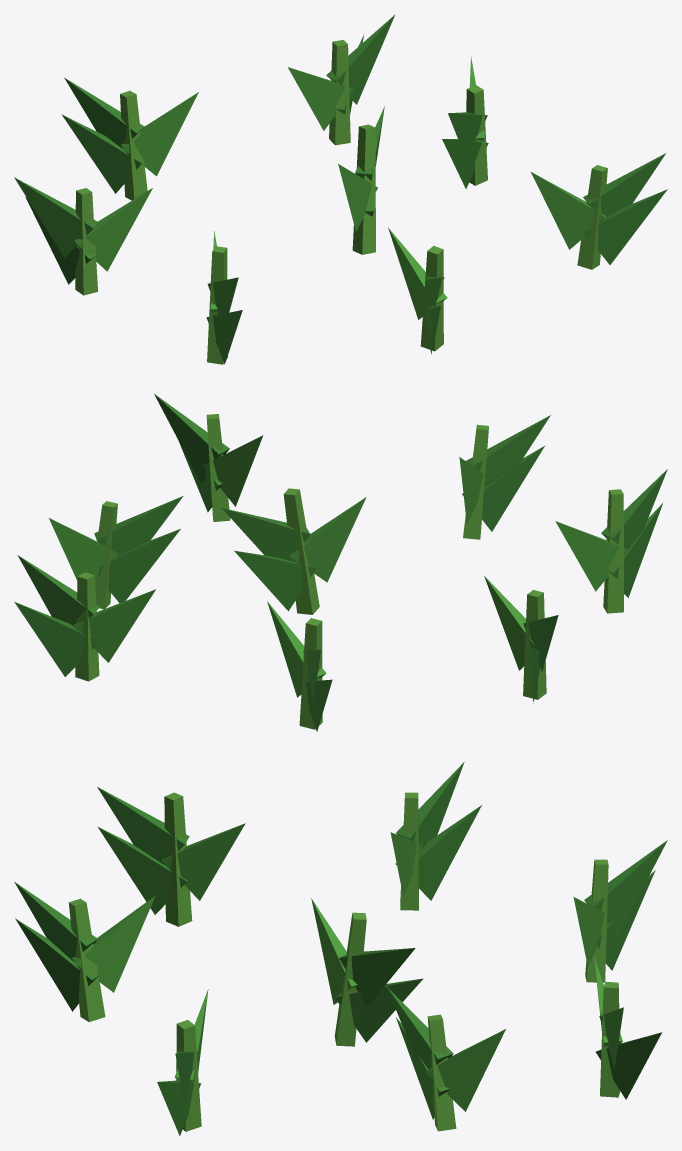
Rendered from flower-2.glb.
3 views of the same model, one above another, from view 1: azimuth 30°, elevation 25°; view 2: azimuth 150°, elevation 25°; view 3: azimuth 270°, elevation 25° (orthographic). The views are drawn at different scales.
Parts seen in each view (by area): view 1: flower-2; view 2: flower-2; view 3: flower-2.
Part boxes in pixels (bbox=[...]): flower-2: bbox=[14, 14, 667, 364]; flower-2: bbox=[14, 394, 667, 731]; flower-2: bbox=[14, 762, 667, 1135].
Bounding box in the file's own units: 0.7126 × 0.1563 × 0.6943.
1 material, 1 textured.
